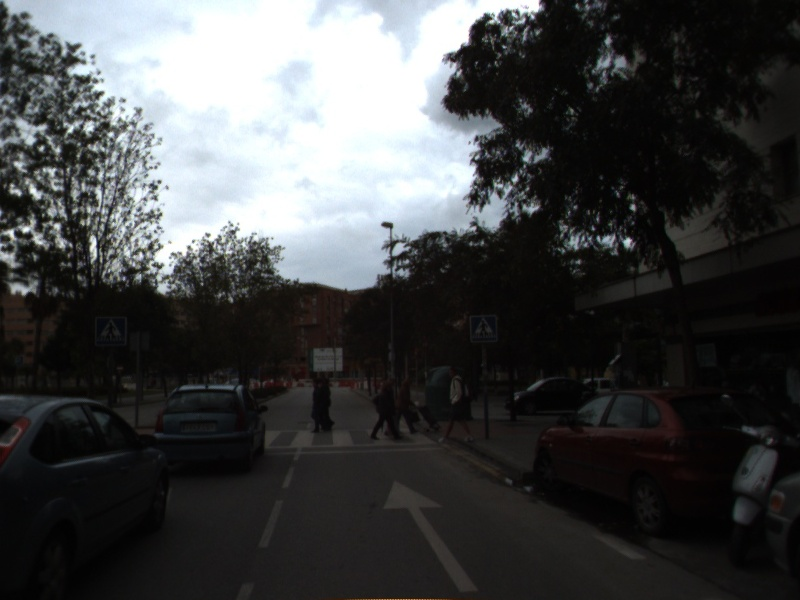STRAIGHT: (380, 477, 481, 594)
